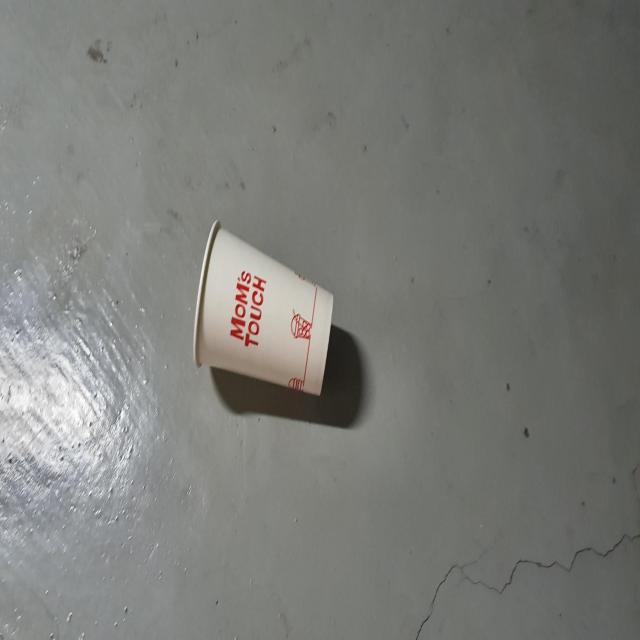paperpack: (193, 220, 333, 395)
